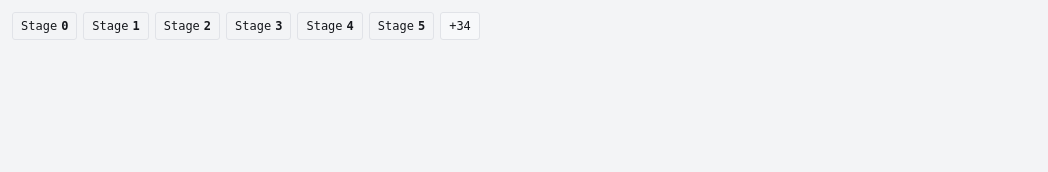
Test: StagePillGroup › reveals 30 more pills per overflow click
Click the button named "show 34 more stages" at coordinates (460, 26), box left=440, top=12, right=480, bottom=40
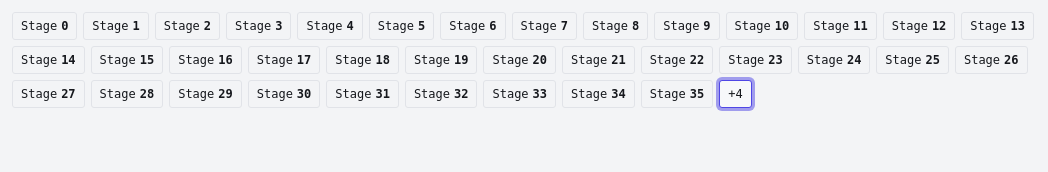
Expected: the number of buttons "Stage 0" is 36
Expected: the button named "show 4 more stages" is shown, left=719, top=80, right=752, bottom=108
